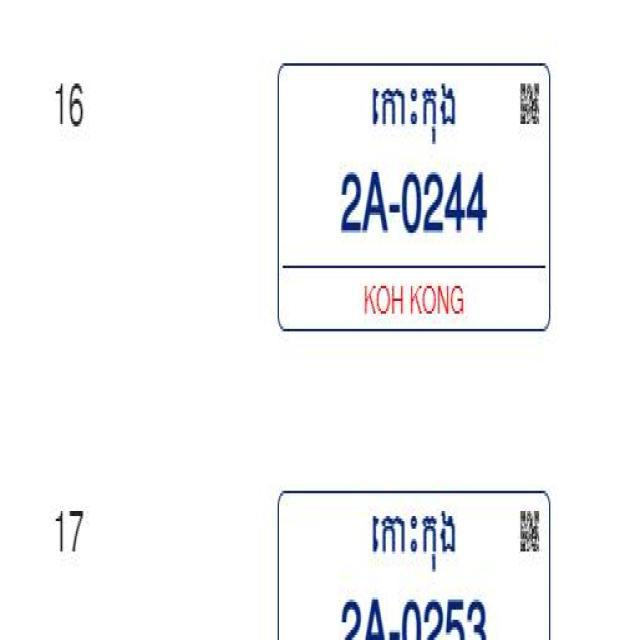Koh_Kong: (366, 69, 464, 159), (368, 506, 460, 578)
